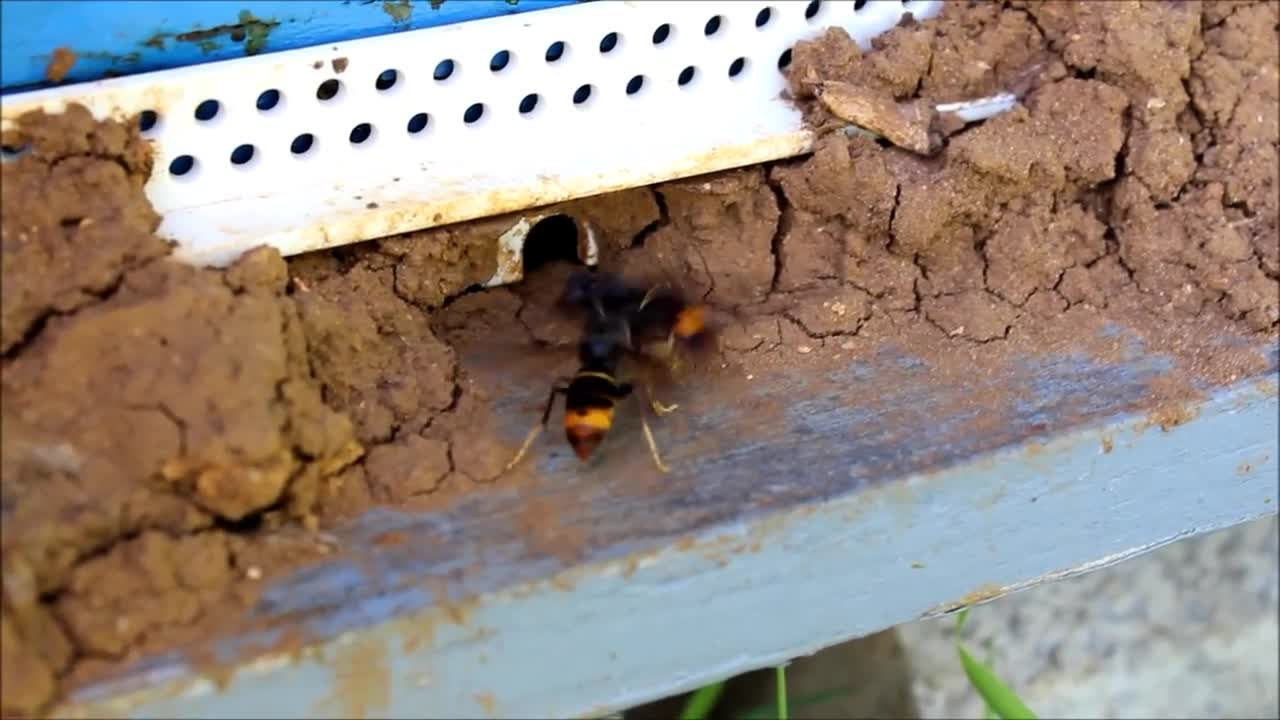hornet: (546, 316, 650, 466), (559, 275, 715, 365)
